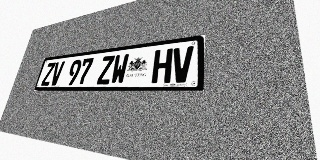7: (77, 58, 94, 85)
9: (66, 59, 83, 85)
H: (151, 48, 173, 83)
V: (171, 46, 194, 83), (49, 61, 65, 86)
W: (110, 53, 129, 84)
Z: (96, 55, 115, 84), (41, 62, 56, 86)
